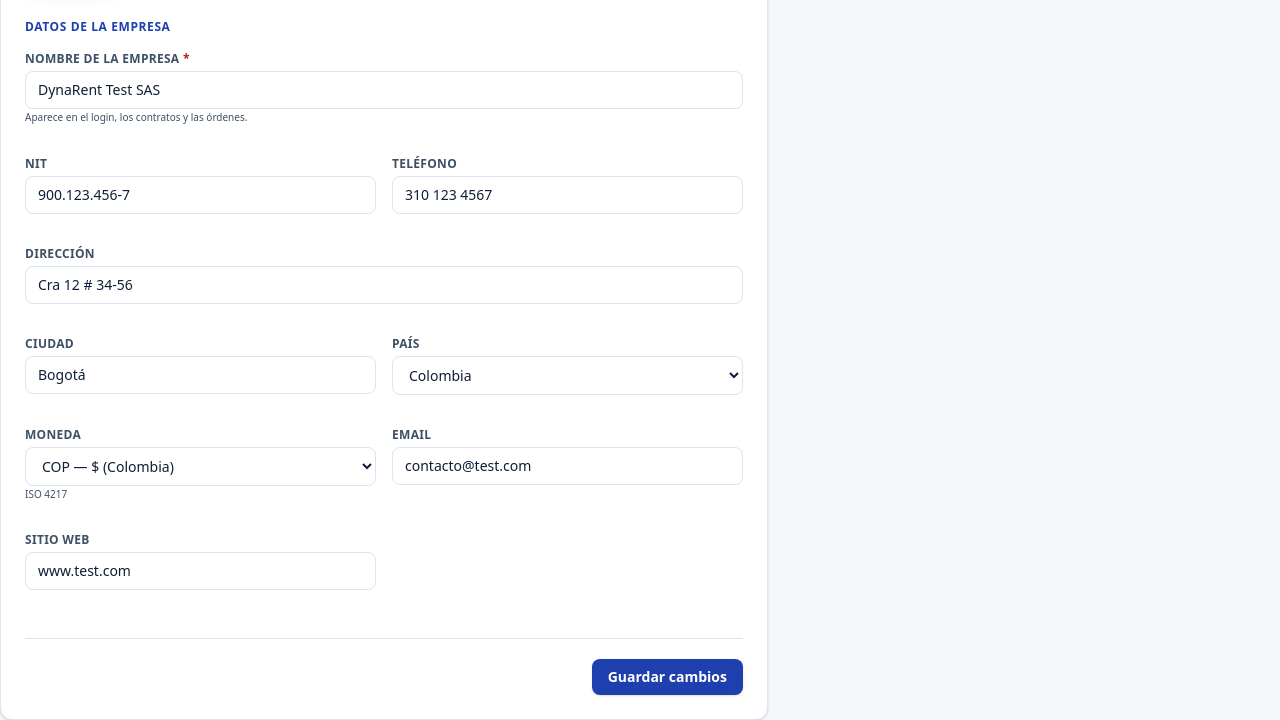
Test: logo, país y errores de guardado › muestra el error si guardar_empresa falla
The image size is (1280, 720).
(page scrolled)
Expected: the field with placeholder "Ej: DynaRent S.A.S." is shown, [25,71,743,109]
Click the button "Guardar cambios" at (667, 677), box [592,659,743,695]
(page scrolled)
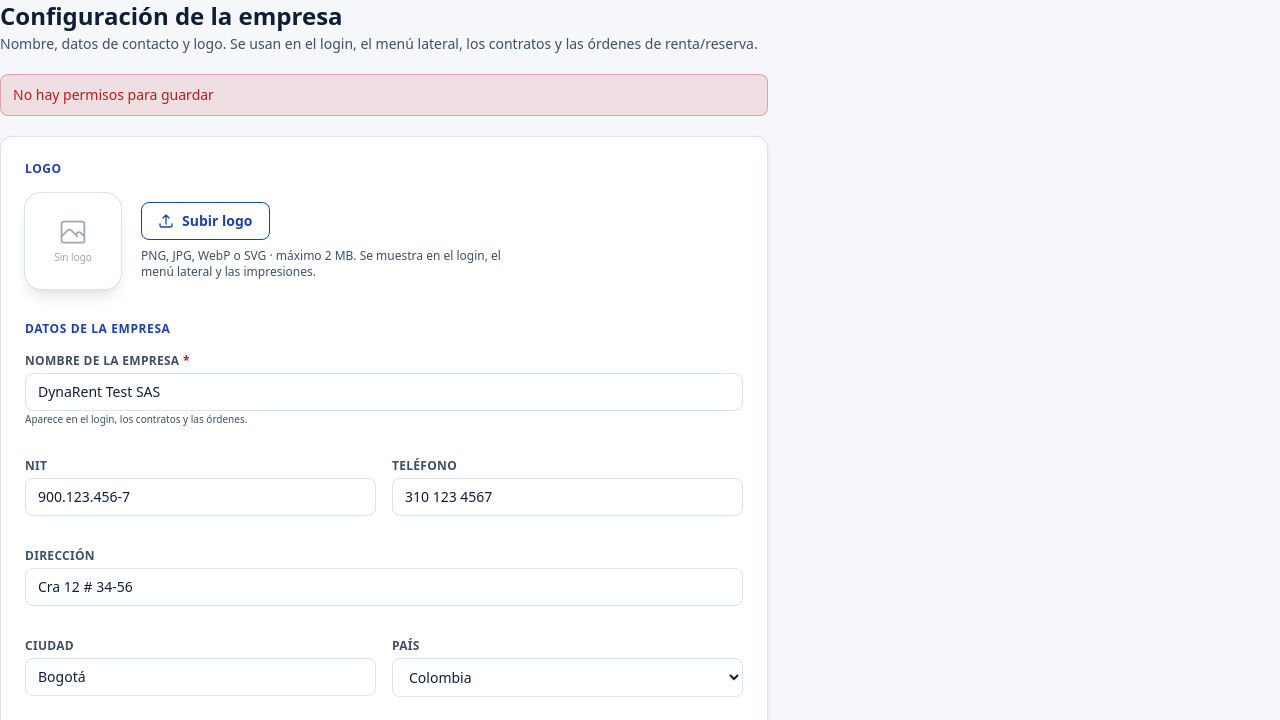
Expected: the message reads "No hay permisos para guardar", [13,85,214,104]
